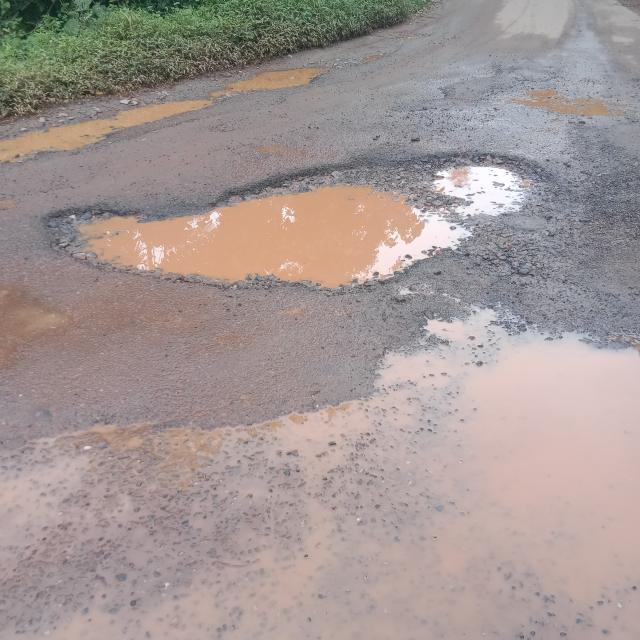pothole: (270, 396, 640, 640), (45, 148, 574, 292), (4, 422, 262, 629), (371, 307, 640, 388), (505, 74, 640, 122), (102, 100, 227, 138), (1, 119, 99, 165), (214, 64, 328, 102), (360, 51, 397, 68)
